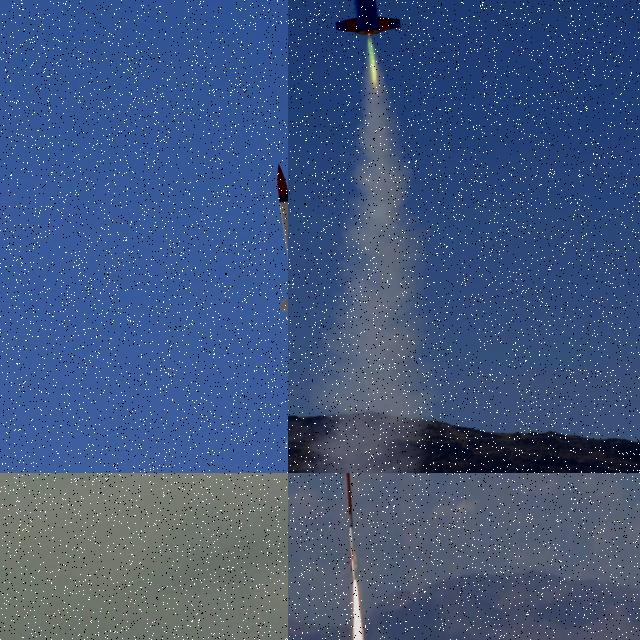Rocket: (333, 0, 403, 36), (274, 164, 288, 316), (345, 473, 359, 580)
